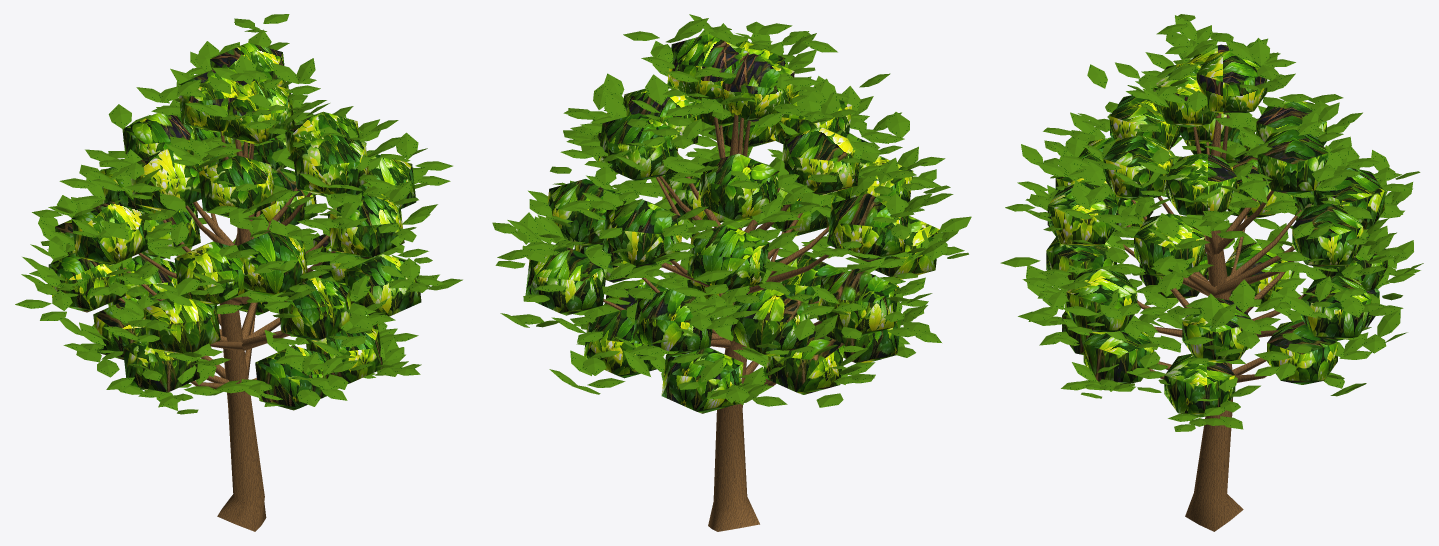
File: V01_tree_green_v2.glb
3 views of the same model, side by side, from view 1: azimuth 30°, elevation 25°; view 2: azimuth 150°, elevation 25°; view 3: azimuth 270°, elevation 25° (orthographic). The views are drawn at different scales.
Parts seen in each view (by area): view 1: GAME_VEG_Dense_inner_leaves, GAME_VEG_Sculpted_leaves, GAME_V2_Bark; view 2: GAME_VEG_Dense_inner_leaves, GAME_VEG_Sculpted_leaves, GAME_V2_Bark; view 3: GAME_VEG_Dense_inner_leaves, GAME_VEG_Sculpted_leaves, GAME_V2_Bark.
Boxes of the visible parts, x1,y1,x2,y2 form: GAME_VEG_Dense_inner_leaves: (48,42,421,410); GAME_VEG_Sculpted_leaves: (15,14,462,414); GAME_V2_Bark: (118,131,336,531); GAME_VEG_Dense_inner_leaves: (525,34,939,413); GAME_VEG_Sculpted_leaves: (492,14,971,407); GAME_V2_Bark: (603,114,836,531); GAME_VEG_Dense_inner_leaves: (1046,44,1387,417); GAME_VEG_Sculpted_leaves: (1000,14,1423,431); GAME_V2_Bark: (1118,113,1304,531).
Size of the model in its own units: 5.61 by 6.62 by 5.21.
Materials: 3 (3 with a texture image).
